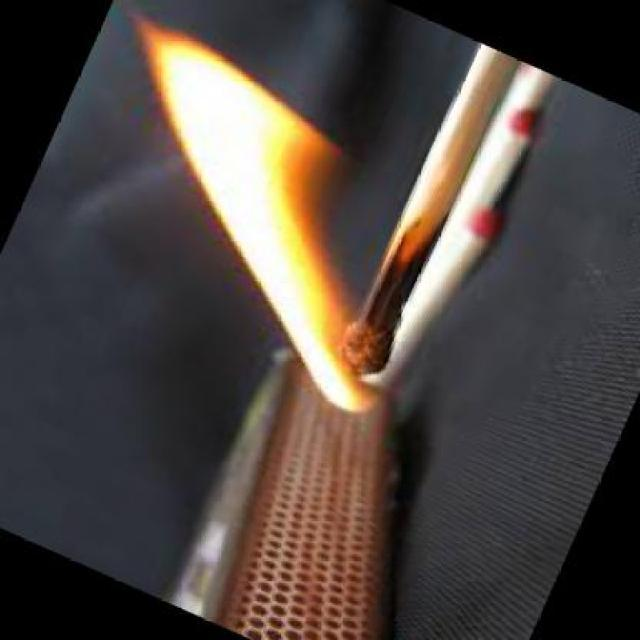Fire: (133, 2, 380, 420)
